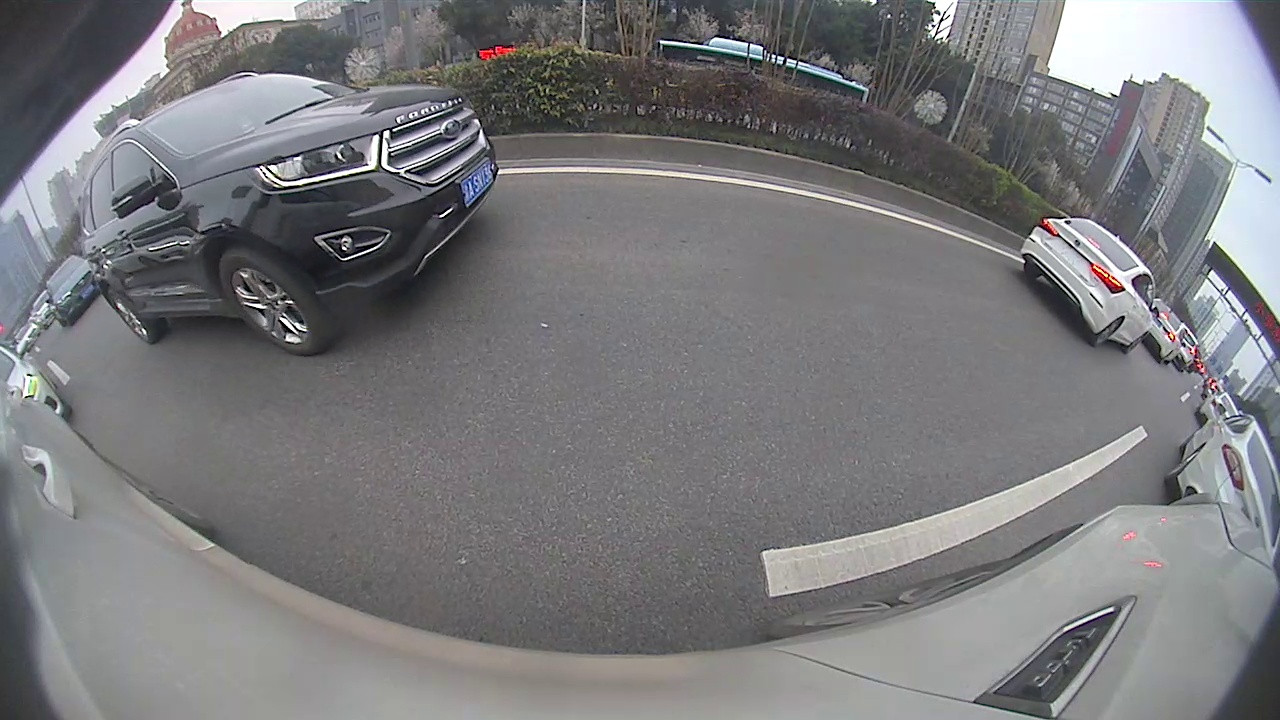car: (76, 72, 501, 361), (1018, 214, 1163, 353), (1165, 403, 1278, 549)
front: (219, 250, 323, 357)
rear: (109, 290, 156, 344), (1094, 318, 1124, 347)
